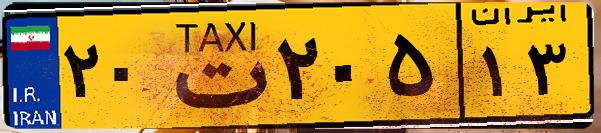0: (330, 28, 385, 110), (110, 28, 158, 98)
1: (475, 38, 525, 113)
2: (270, 28, 330, 110), (57, 26, 110, 100)
3: (525, 38, 570, 115)
5: (385, 28, 445, 110)
ت: (158, 12, 270, 120)
